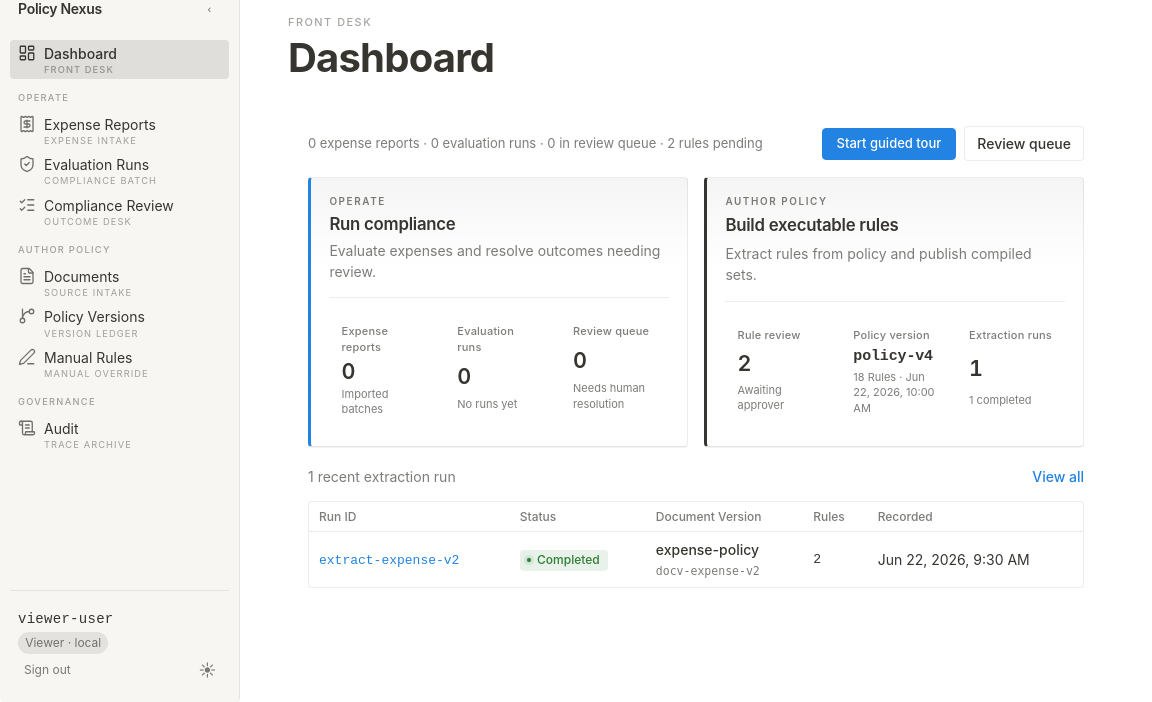
Test: App › opens Manual Rules and keeps creation disabled for viewer clearance
Expected: the heading "Dashboard" is shown, [288, 33, 494, 82]
Click the button "Manual Rules Manual Override". click: click(120, 363)
box: [10, 344, 229, 383]
(page scrolled)
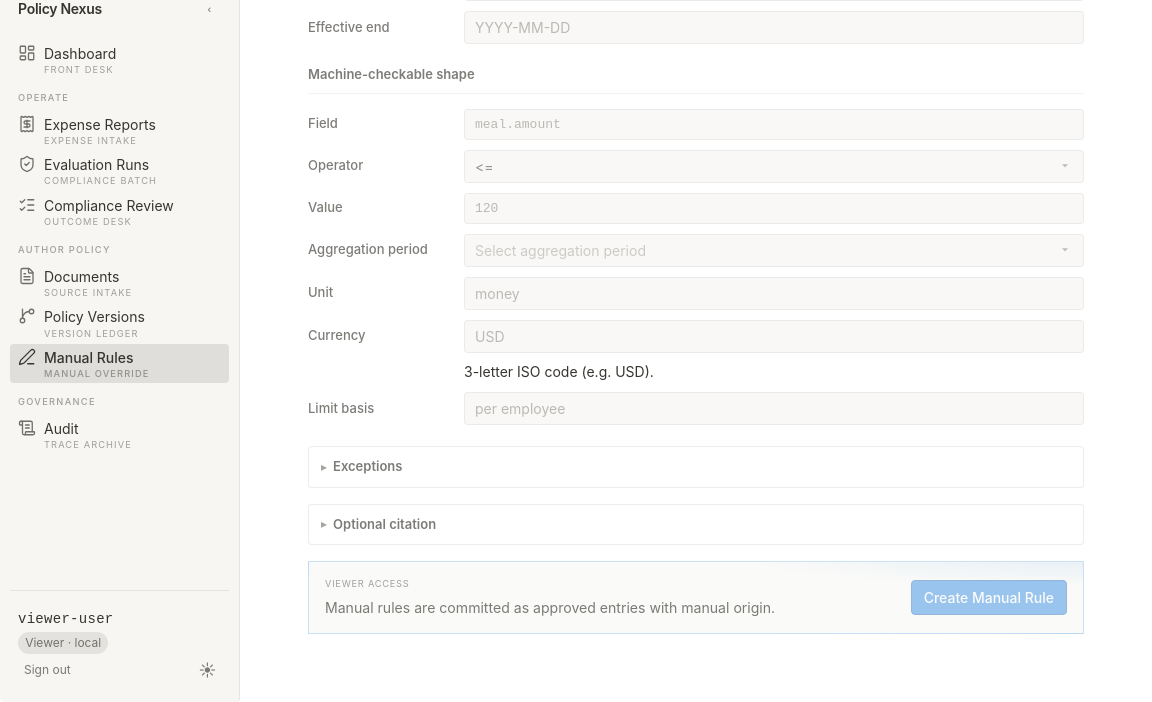
Expected: the button "Create Manual Rule" is disabled, [911, 580, 1067, 615]
Expected: the text "Viewer access" is shown, [325, 578, 410, 589]
